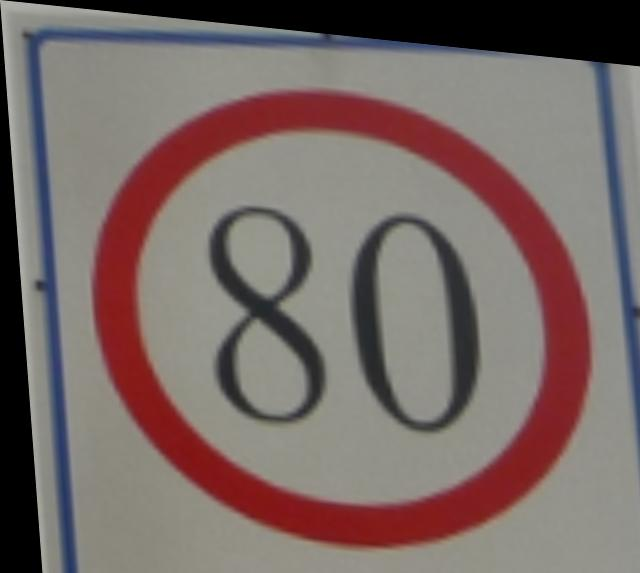limit80: (67, 53, 614, 572)
